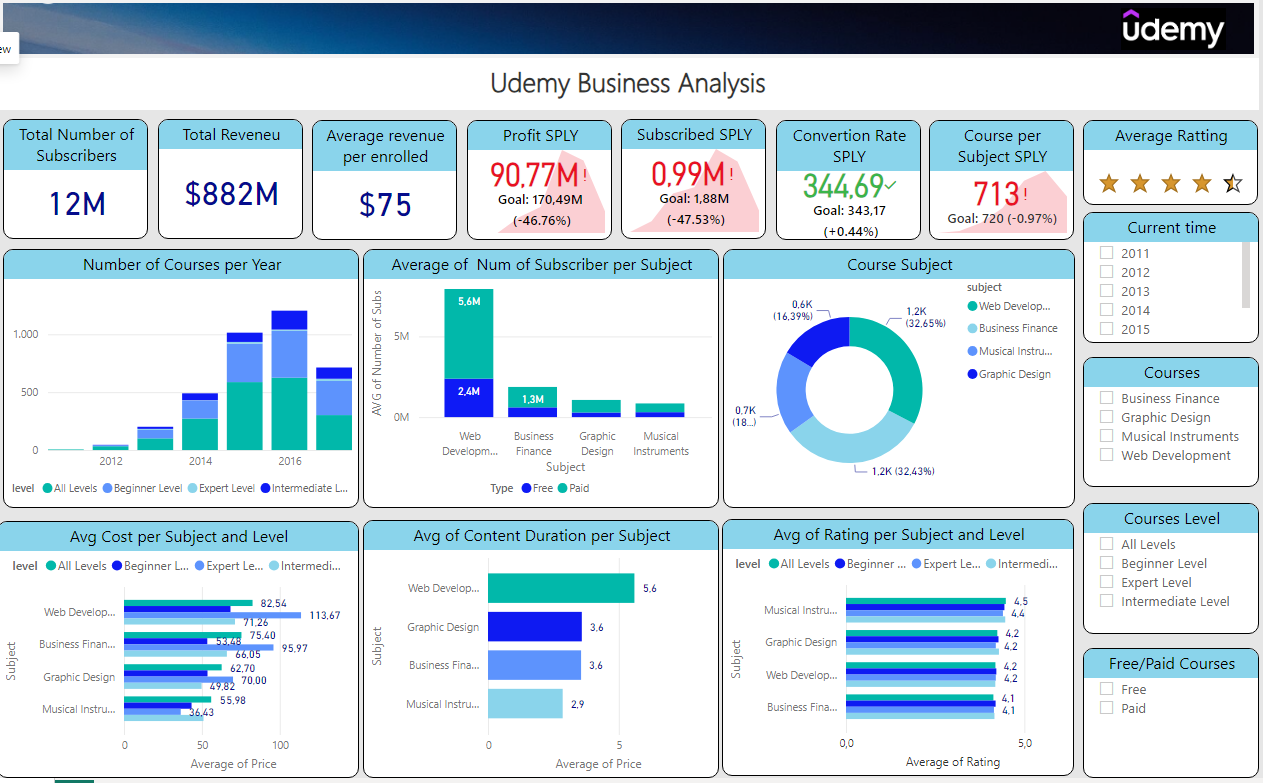

What the dashboard file says about the page in this screenshot:
{"tool":"powerbi","page":{"name":"Page 1","canvas":[1280,1500],"ordinal":0},"visuals":[{"type":"image","box":[13.2,0,1261.1,61.3],"z":0},{"type":"textbox","box":[11.9,60.2,1261.8,52],"z":1000},{"type":"card","title":"Total Number of Subscribers","fields":{"Values":["udemy.Total_Sub_m"]},"box":[17.9,119.6,167.5,121.6],"z":2000},{"type":"card","title":"Convertion Rate","fields":{"Values":["udemy.Tasa de Conversión"]},"box":[737.7,121.6,166.5,121.6],"z":3000},{"type":"slicer","title":"Current time","fields":{"Values":["Calendar.year"]},"box":[1097.6,214.3,176.4,130.6],"z":4000},{"type":"card","title":"Proportion of paid courses with respect to the total","fields":{"Values":["udemy.Proporción cursos pagados respecto total"]},"box":[557.3,121.6,166.5,120.6],"z":5000},{"type":"columnChart","title":"Number of Courses per Year","fields":{"Category":["Calendar.year"],"Y":["Count(udemy.course_id)"],"Series":["udemy.level"]},"box":[17.9,251.2,355.9,259.2],"z":7000},{"type":"image","box":[1111.2,4.7,153.8,51.9],"z":9000},{"type":"card","title":"Total Reveneu","fields":{"Values":["udemy.total_price_dash"]},"box":[197.4,120.6,166.5,121.6],"z":10000},{"type":"slicer","title":"Courses","fields":{"Values":["udemy.subject.subject"]},"box":[1097.6,358.9,176.4,130.6],"z":11000},{"type":"slicer","title":"Courses Level","fields":{"Values":["udemy.level.level"]},"box":[1097.6,505.4,176.4,130.6],"z":12000},{"type":"slicer","title":"Free/Paid Courses","fields":{"Values":["udemy (2).Type"]},"box":[1098,649.9,176.4,130.2],"z":13000},{"type":"columnChart","title":"Average of  Num of Subscriber by Subject","fields":{"Category":["udemy.subject1"],"Series":["udemy.Type"],"Y":["Sum(udemy.num_subscribers)"]},"box":[377.8,251.2,355.9,259.2],"z":14000},{"type":"card","title":"Average revenue per enrollee","fields":{"Values":["udemy.Ingresos promedio por inscrito"]},"box":[377.8,119.6,166.5,121.6],"z":18000},{"type":"card","title":"Course per Subject","fields":{"Values":["Count(udemy.course_title)"]},"box":[922.1,121.6,167.5,121.6],"z":19000},{"type":"card","title":"Average Ratting","fields":{"Values":["udemy._Ratings"]},"box":[1097.9,121.7,175.7,78.7],"z":20000},{"type":"donutChart","title":"Course Subject","fields":{"Y":["CountNonNull(udemy.subject)"],"Category":["udemy.subject"]},"box":[738.3,251.4,351.3,258.7],"z":20001},{"type":"clusteredBarChart","title":"Avg of Rating by Subject and Level","fields":{"Category":["udemy.subject"],"Series":["udemy.level"],"Y":["Avg(udemy.rating)"]},"box":[738.3,522.7,351.3,258.7],"z":20002},{"type":"clusteredBarChart","title":"Avg of Content duration by Subject","fields":{"Category":["udemy.subject"],"Y":["udemy.prom_duracion_dash"]},"box":[377.8,522.4,355.9,258.2],"z":20003},{"type":"clusteredBarChart","title":"Avg Cost by Subject and Level","fields":{"Category":["udemy.subject"],"Series":["udemy.level"],"Y":["Avg(udemy.price)"]},"box":[12.3,522.6,362.2,257.5],"z":20004}]}

Visuals, with their boxes on the page's 1280x1500 design canvas (x1, y1, x2, y2). These are canvas units, not pixel positions in the 1263x783 screenshot, which may show the page scaled, cropped or inside an application window:
image: bbox=(13, 0, 1274, 61)
textbox: bbox=(12, 60, 1274, 112)
"Total Number of Subscribers" card: bbox=(18, 120, 185, 241)
"Convertion Rate" card: bbox=(738, 122, 904, 243)
"Current time" slicer: bbox=(1098, 214, 1274, 345)
"Proportion of paid courses with respect to the total" card: bbox=(557, 122, 724, 242)
"Number of Courses per Year" columnChart: bbox=(18, 251, 374, 510)
image: bbox=(1111, 5, 1265, 57)
"Total Reveneu" card: bbox=(197, 121, 364, 242)
"Courses" slicer: bbox=(1098, 359, 1274, 490)
"Courses Level" slicer: bbox=(1098, 505, 1274, 636)
"Free/Paid Courses" slicer: bbox=(1098, 650, 1274, 780)
"Average of  Num of Subscriber by Subject" columnChart: bbox=(378, 251, 734, 510)
"Average revenue per enrollee" card: bbox=(378, 120, 544, 241)
"Course per Subject" card: bbox=(922, 122, 1090, 243)
"Average Ratting" card: bbox=(1098, 122, 1274, 200)
"Course Subject" donutChart: bbox=(738, 251, 1090, 510)
"Avg of Rating by Subject and Level" clusteredBarChart: bbox=(738, 523, 1090, 781)
"Avg of Content duration by Subject" clusteredBarChart: bbox=(378, 522, 734, 781)
"Avg Cost by Subject and Level" clusteredBarChart: bbox=(12, 523, 374, 780)
